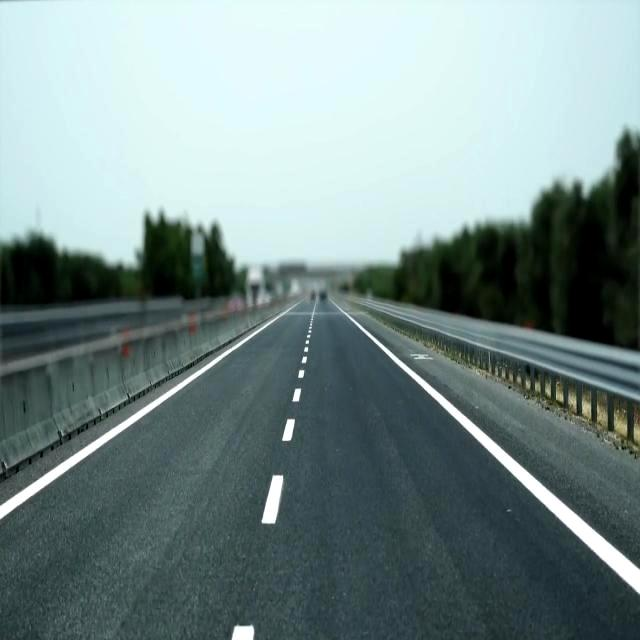lane: (335, 306, 640, 594), (1, 303, 300, 521), (261, 475, 284, 524), (282, 419, 294, 441)
road: (0, 301, 639, 639), (358, 316, 639, 566)
